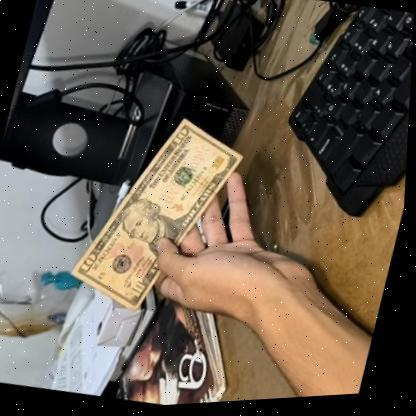ten-front: (60, 99, 252, 329)
